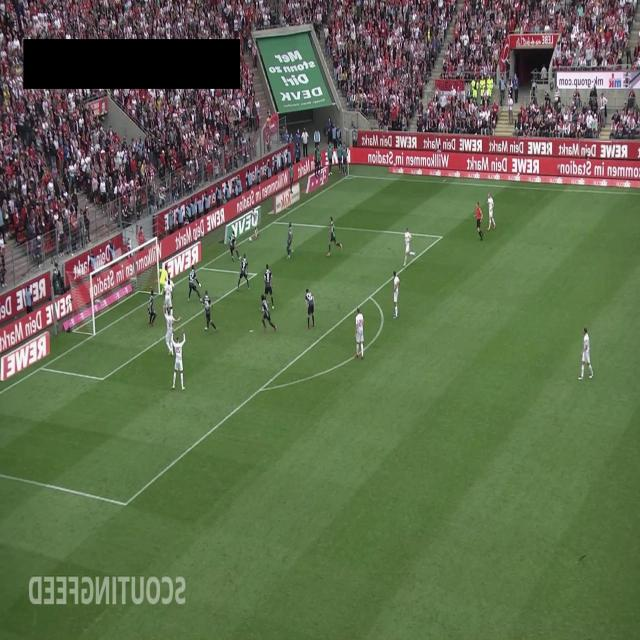goalkeeper: (159, 263, 168, 295)
player: (171, 329, 186, 391), (163, 306, 181, 356), (578, 326, 594, 380), (201, 289, 218, 331), (259, 294, 277, 333), (326, 216, 342, 256), (403, 226, 417, 268), (188, 264, 202, 302), (354, 307, 364, 359), (237, 253, 250, 291), (163, 272, 174, 316), (264, 263, 274, 309), (305, 288, 315, 330), (486, 191, 496, 231), (392, 270, 400, 318), (229, 234, 241, 262), (148, 286, 156, 326), (286, 222, 294, 259), (251, 208, 259, 240)
referee: (474, 201, 484, 241)
